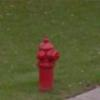a fire hydrant: (31, 36, 62, 91)
